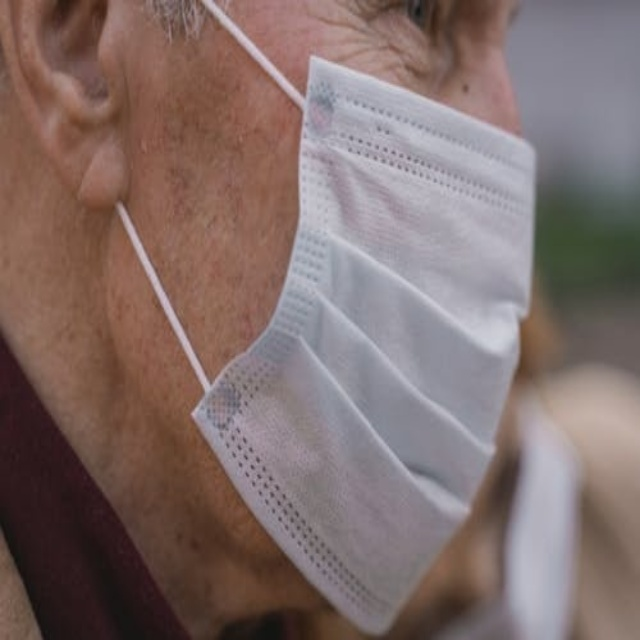Mascara: (184, 44, 536, 636)
Sin_gafas: (241, 2, 535, 90)
